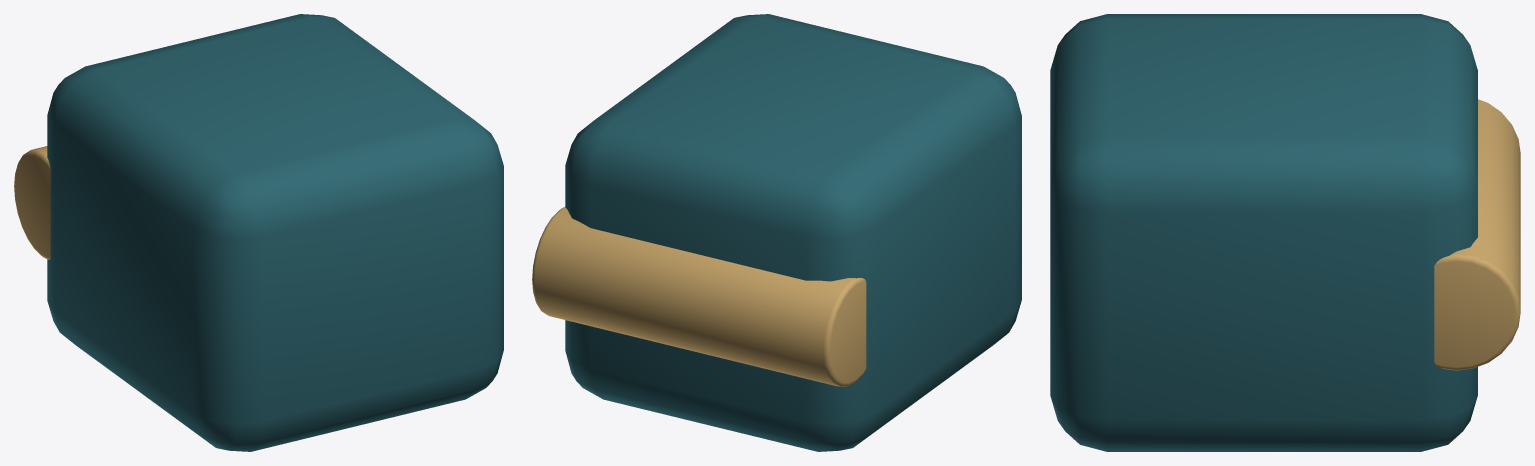
Rendered from cutter.glb.
3 views of the same model, side by side, from view 1: azimuth 30°, elevation 25°; view 2: azimuth 150°, elevation 25°; view 3: azimuth 270°, elevation 25° (orthographic). The views are drawn at different scales.
Visible parts, largest first — view 1: Shears motor, Shears pivot; view 2: Shears motor, Shears pivot; view 3: Shears motor, Shears pivot.
Boxes of the visible parts, <box> form: Shears motor: <box>47,14,503,451</box>; Shears pivot: <box>14,146,50,259</box>; Shears motor: <box>565,14,1021,451</box>; Shears pivot: <box>532,207,866,386</box>; Shears motor: <box>1050,14,1477,451</box>; Shears pivot: <box>1434,99,1520,370</box>.
Bounding box in the file's own units: 0.055 × 0.048 × 0.066.
